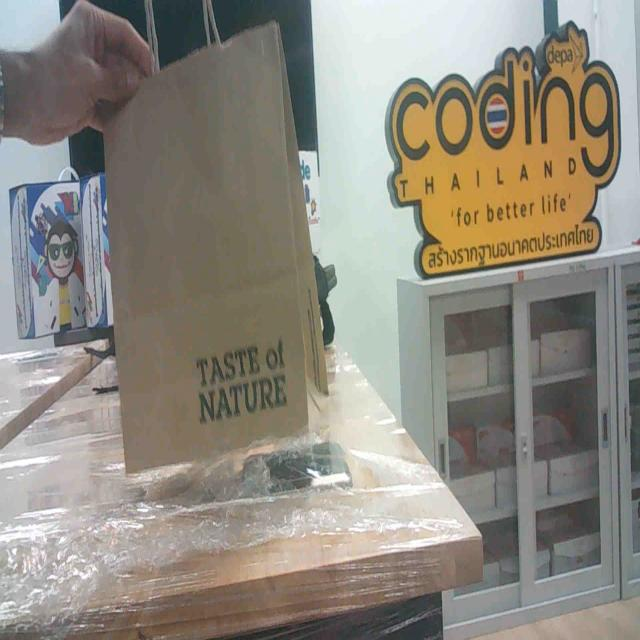bag: (87, 50, 327, 481)
